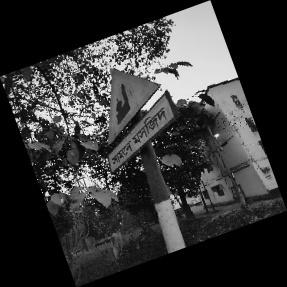Mosque in front: (99, 55, 180, 179)
